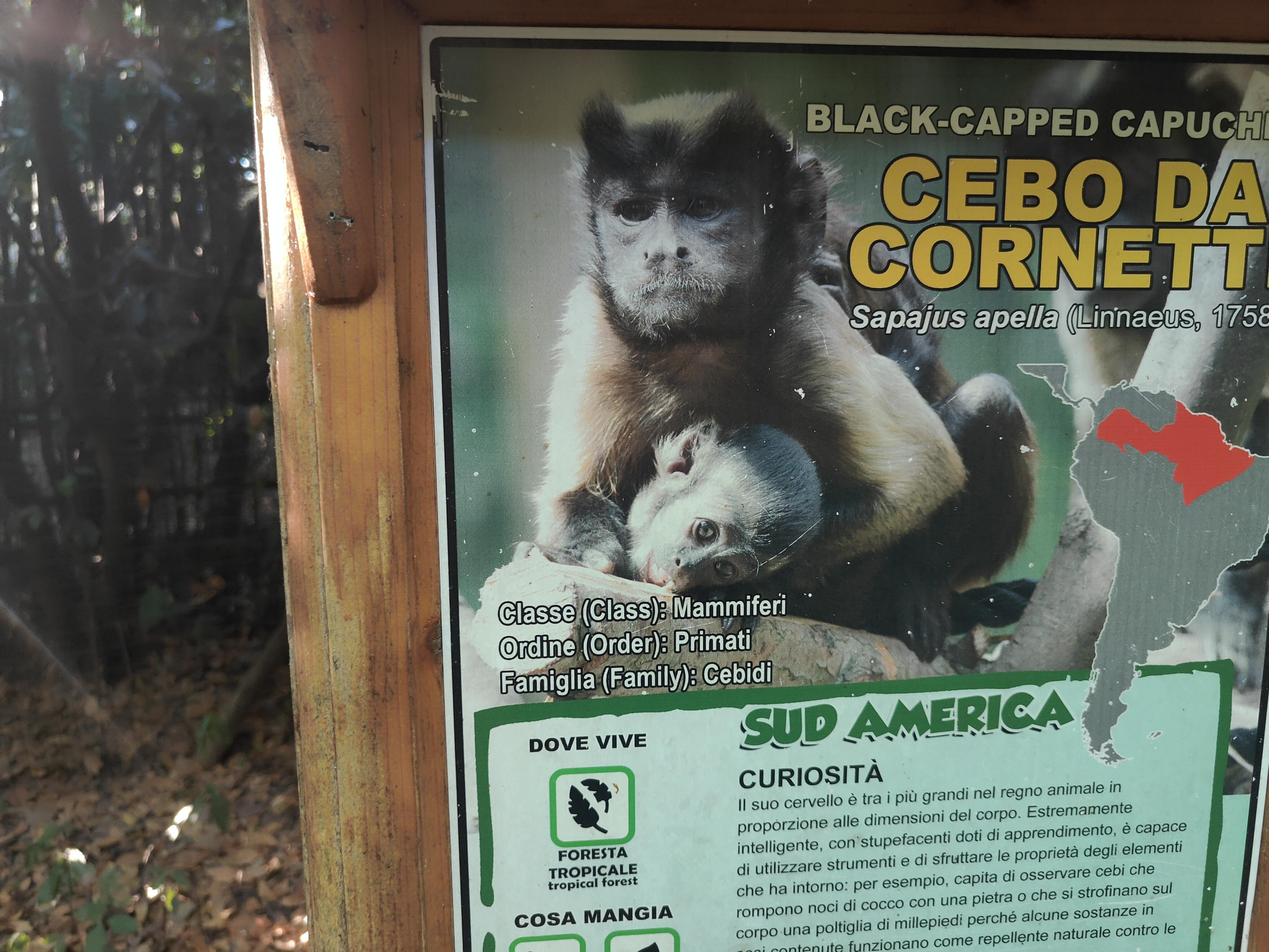boar: (528, 89, 1037, 665), (626, 419, 820, 594)
